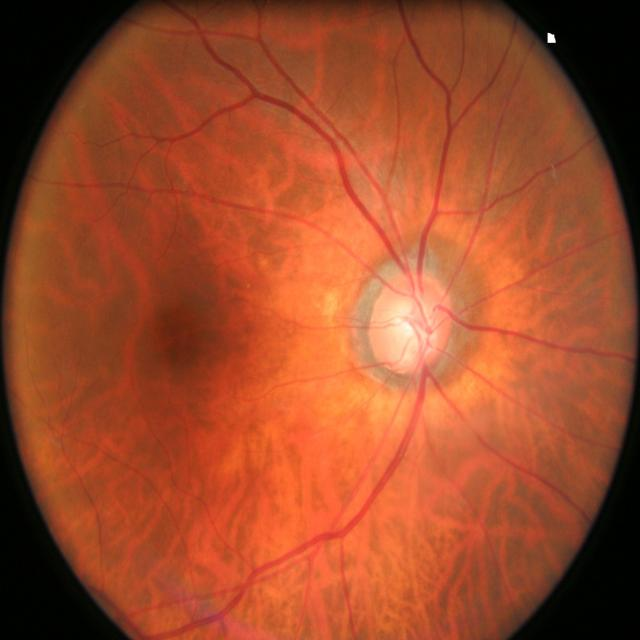OC: (388, 294, 433, 352)
OD: (372, 274, 454, 376)
